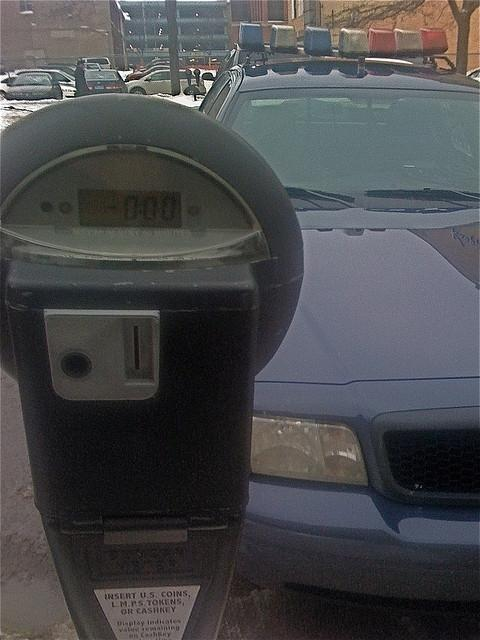car: (203, 18, 480, 602), (126, 69, 204, 96), (0, 71, 65, 98), (15, 69, 76, 88), (85, 70, 128, 94), (125, 66, 188, 82), (36, 64, 77, 78), (81, 56, 112, 68), (148, 62, 166, 70)
